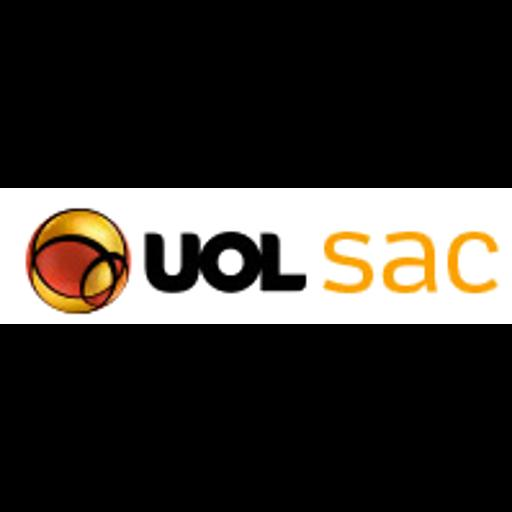Universo Online: (0, 188, 512, 324)
